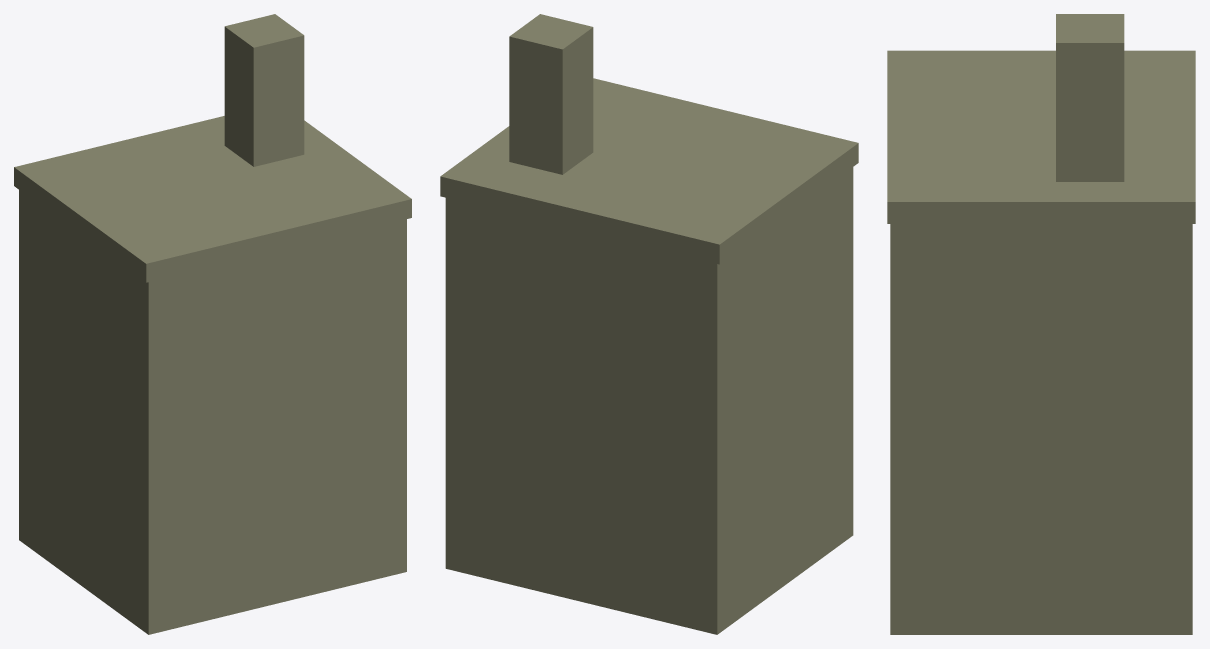
Rendered from ind_chimney.glb.
3 views of the same model, side by side, from view 1: azimuth 30°, elevation 25°; view 2: azimuth 150°, elevation 25°; view 3: azimuth 270°, elevation 25° (orthographic). The views are drawn at different scales.
Visible parts, largest first — view 1: ind_chimney; view 2: ind_chimney; view 3: ind_chimney.
Boxes of the visible parts, x1=… form: ind_chimney: x1=14, y1=14, x2=411, y2=634; ind_chimney: x1=440, y1=14, x2=858, y2=634; ind_chimney: x1=887, y1=14, x2=1195, y2=634.
Size of the model in its own units: 0.7344 by 1.3 by 0.6324.
